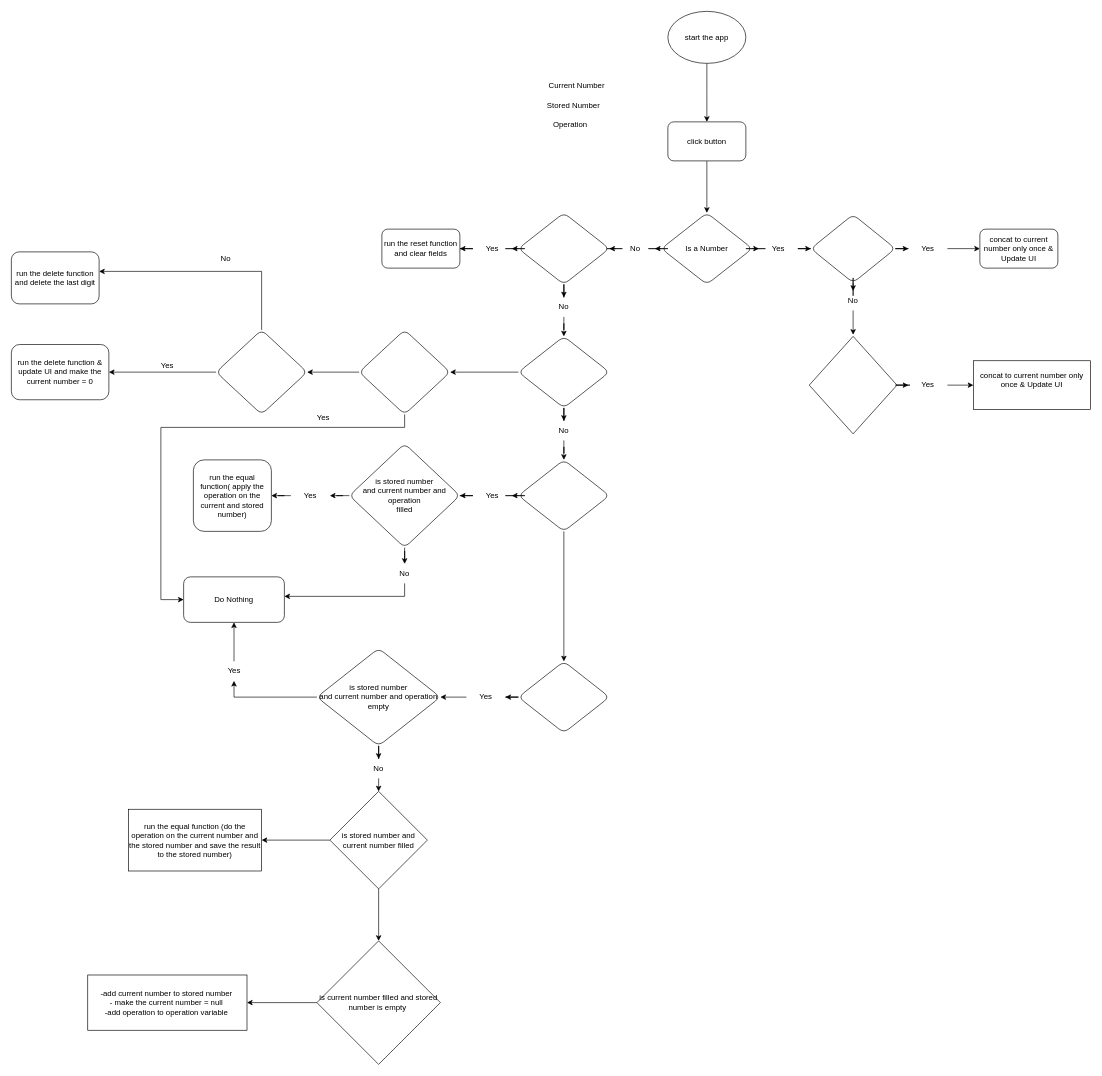
This 1102x1076 diagram has some shape labels left out. Each missing label, with the centre of its shape:
Is ( . ): the point at 853,385
Is Delete Button: the point at 563,372
Is equal Button: the point at 563,495
is first digit & is Zero: the point at 852,248
Is Number equals zero: the point at 404,371
Is Number length = 1: the point at 261,371
Is operation: the point at 563,697
Is Reset Button: the point at 563,248
